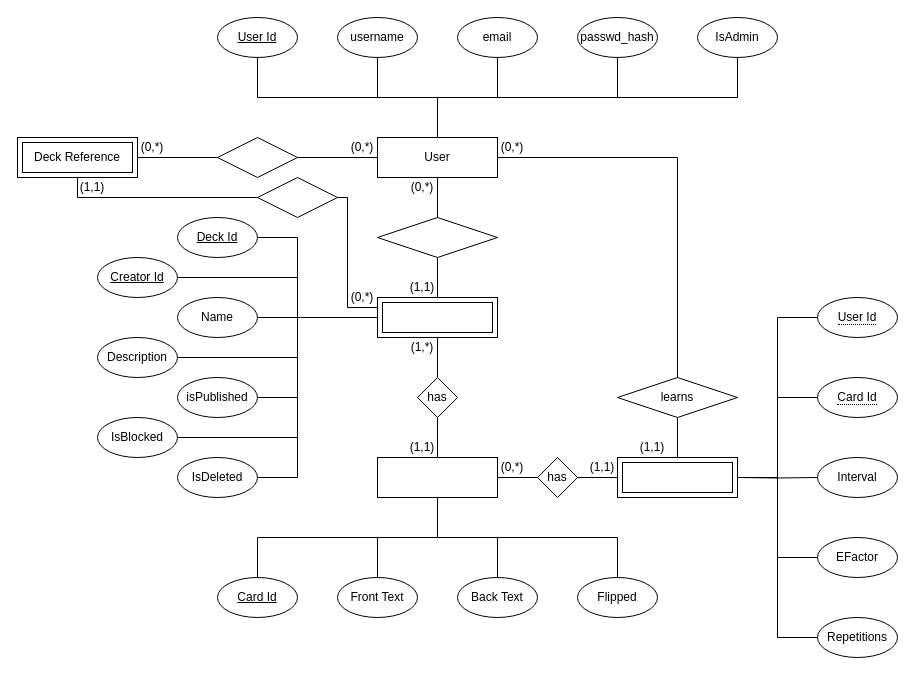
Image size: 915x675. Some labels were removed from this diagram. Here are the shapes that lost their labels. From the top down, the box of each, then its label:
(216, 136, 298, 178): follows
(256, 176, 338, 218): references
(376, 216, 498, 258): sees
(376, 296, 498, 338): Deck
(376, 456, 498, 498): Card
(616, 456, 738, 498): Learning Progress
